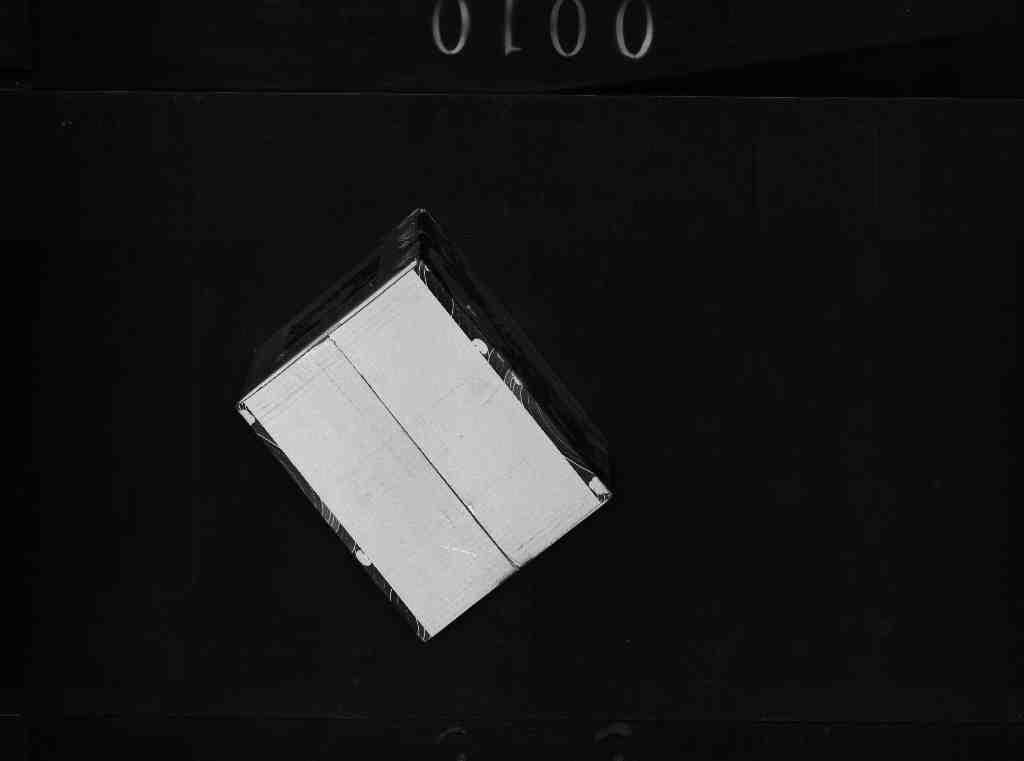box: (230, 249, 626, 635)
